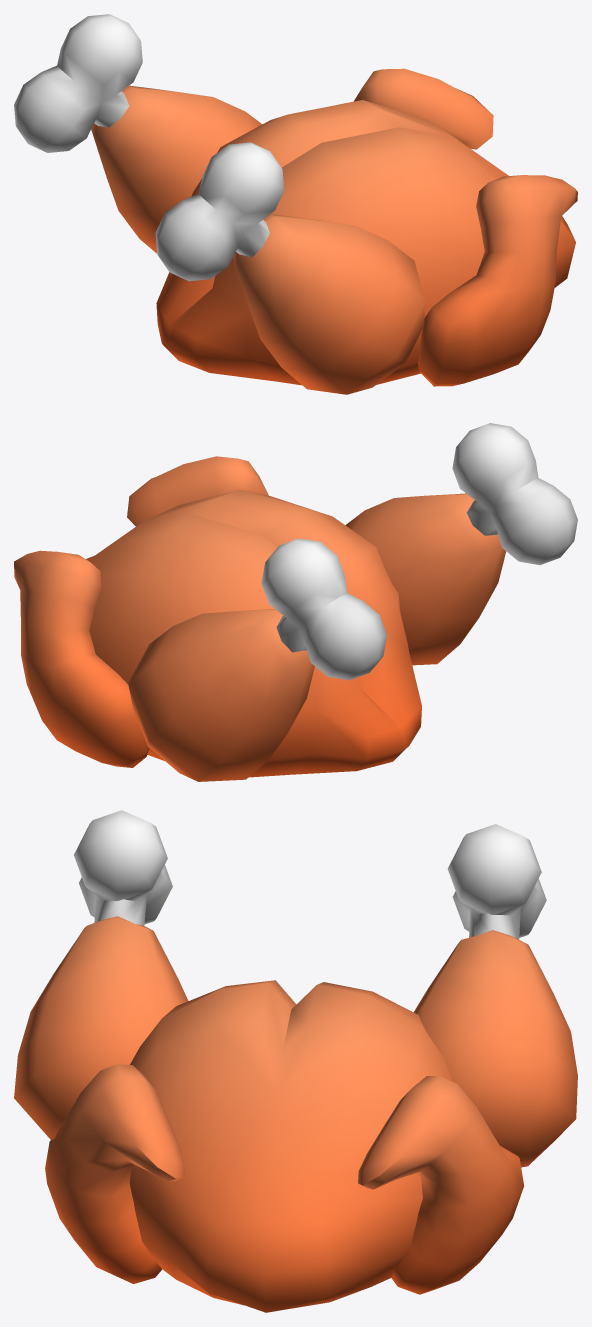
Rendered from Chicken_Meat_01.fbx.
3 renders of one model, top to bottom at view 1: azimuth 30°, elevation 25°; view 2: azimuth 150°, elevation 25°; view 3: azimuth 270°, elevation 25°, orthographic. The views are drawn at different scales.
Parts seen in each view (by area): view 1: Chicken_Meat_01; view 2: Chicken_Meat_01; view 3: Chicken_Meat_01.
Boxes of the visible parts, x1,y1,x2,y2 form: Chicken_Meat_01: (14,14,577,394); Chicken_Meat_01: (14,423,577,781); Chicken_Meat_01: (14,810,577,1312).
Bounding box in the file's own units: 61.31 × 36.17 × 57.02.
